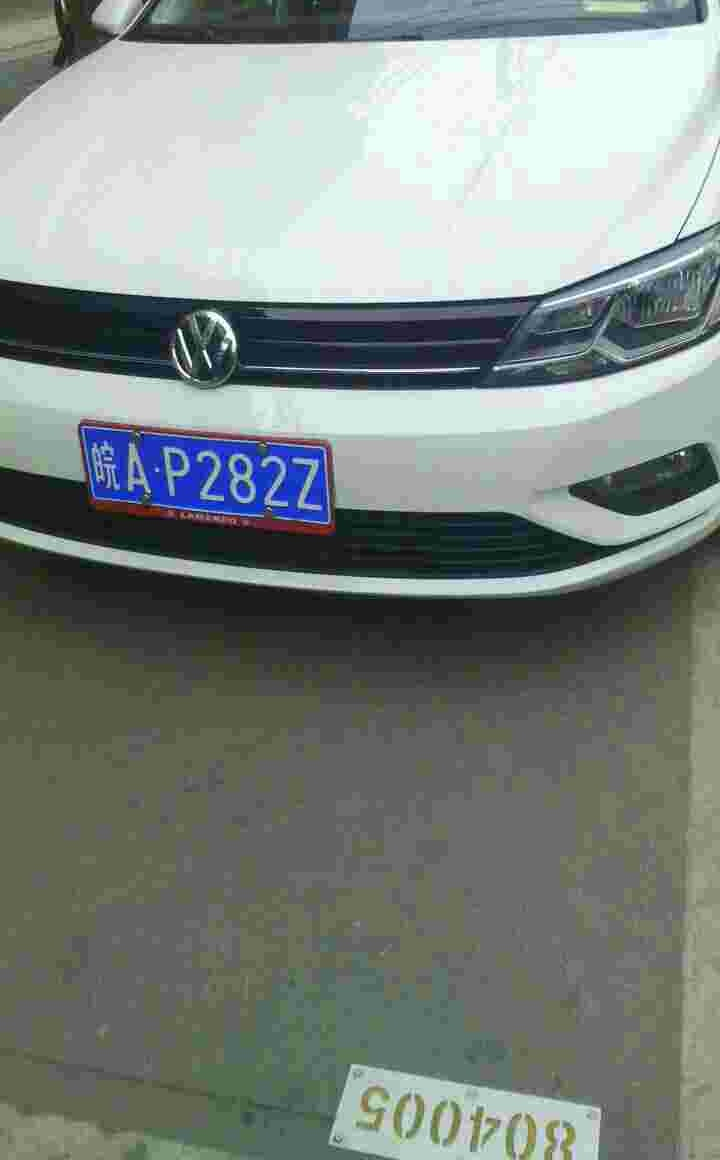license_plate: (81, 421, 323, 532)
